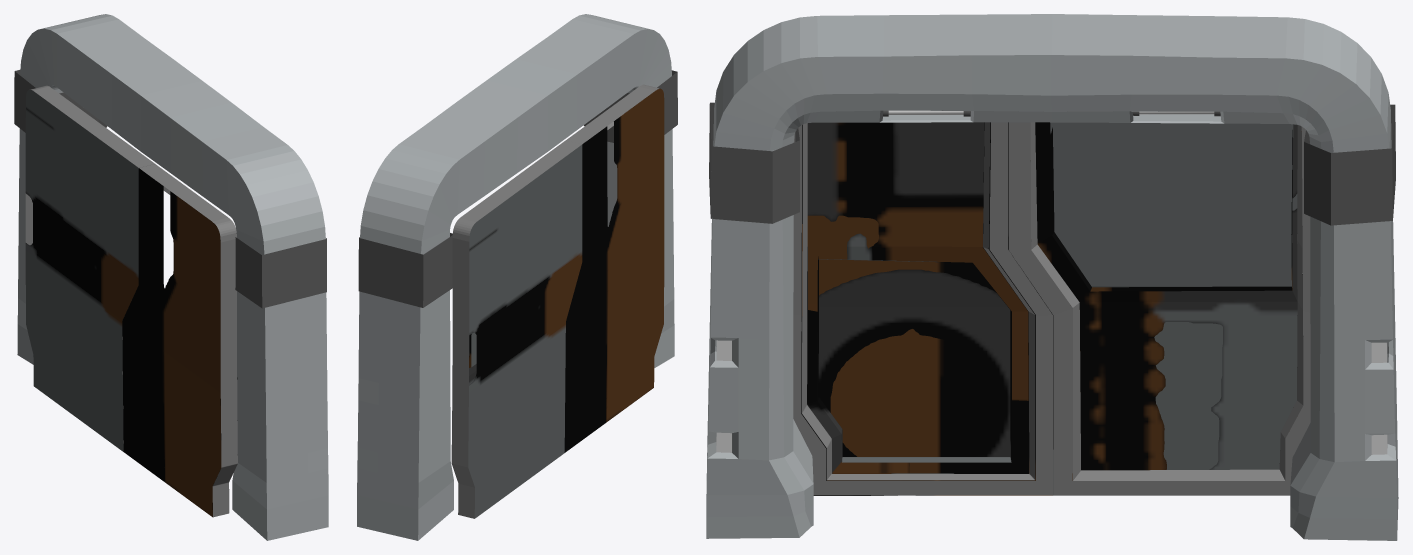
The model's file is Gate_02.fbx.
The picture shows the model from 3 angles, left to right: view 1: azimuth 30°, elevation 25°; view 2: azimuth 150°, elevation 25°; view 3: azimuth 270°, elevation 25°; orthographic projection. The views are drawn at different scales.
Parts seen in each view (by area): view 1: Pasillo puerta, Puerta derecha, Puerta izquierda; view 2: Pasillo puerta, Puerta derecha, Puerta izquierda; view 3: Pasillo puerta, Puerta derecha, Puerta izquierda.
Boxes of the visible parts, x1,y1,x2,y2 form: Pasillo puerta: (14,14,328,540); Puerta derecha: (25,85,154,451); Puerta izquierda: (122,164,237,517); Pasillo puerta: (357,14,677,540); Puerta derecha: (451,140,582,518); Puerta izquierda: (564,84,664,452); Pasillo puerta: (706,14,1398,540); Puerta derecha: (1008,122,1310,495); Puerta izquierda: (793,122,1053,495).
Size of the model in its own units: 58.71 by 227 by 294.
